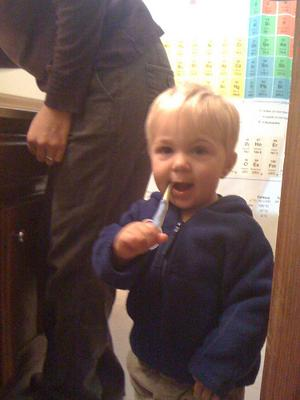person: (94, 85, 275, 400)
